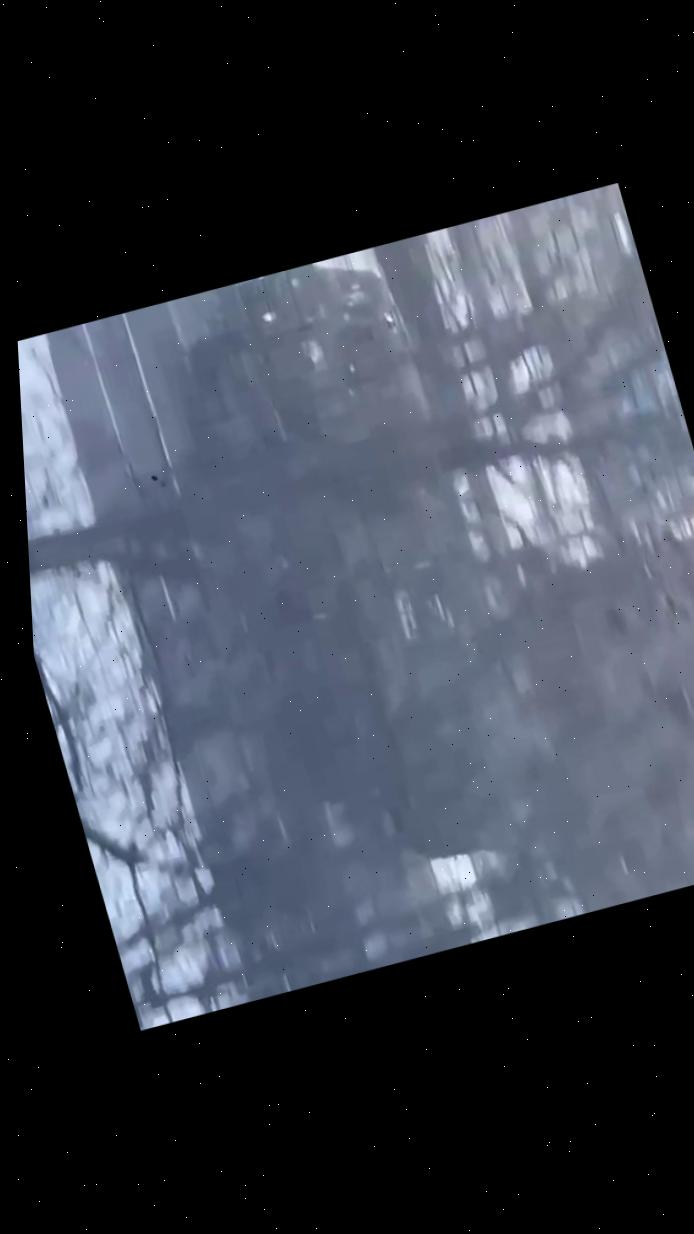truck: (157, 238, 562, 898)
